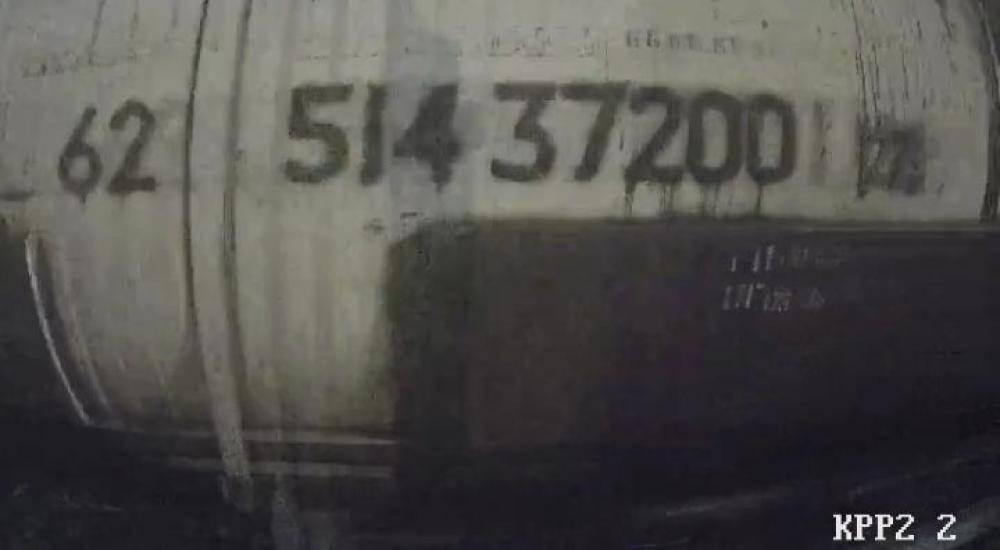Wagon-number: (273, 70, 805, 192)
